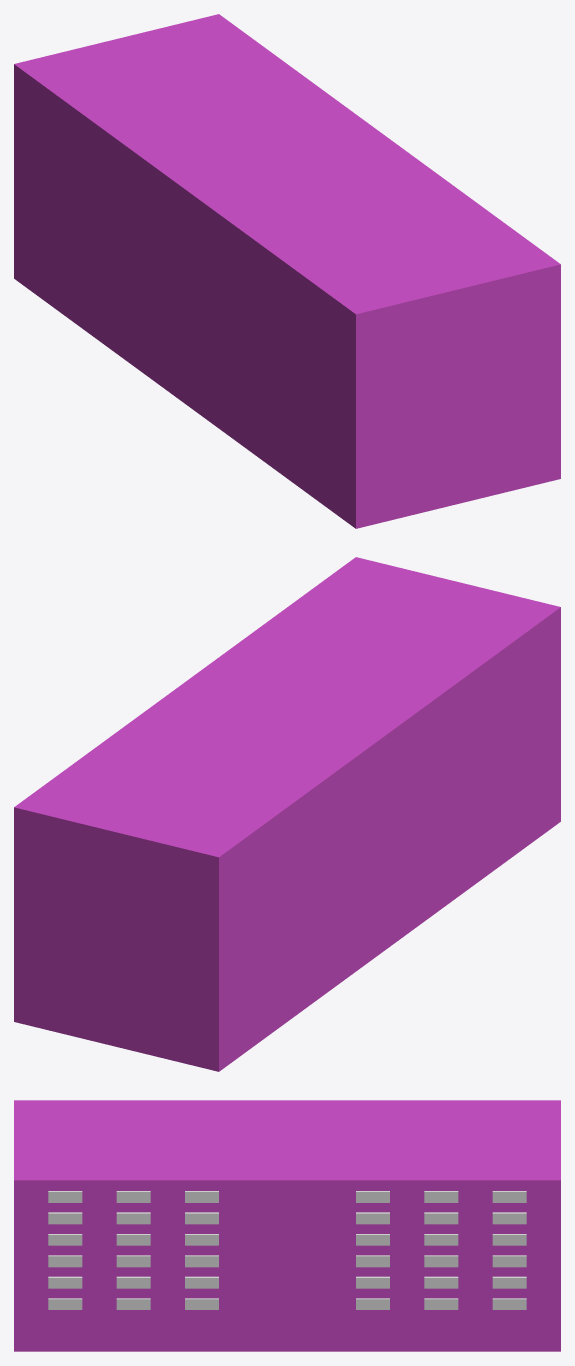
The model's file is condominio.fbx.
3 renders of one model, top to bottom at view 1: azimuth 30°, elevation 25°; view 2: azimuth 150°, elevation 25°; view 3: azimuth 270°, elevation 25°, orthographic. The views are drawn at different scales.
Visible parts, largest first — view 1: Cube; view 2: Cube; view 3: Cube.
Boxes of the visible parts, x1,y1,x2,y2 form: Cube: (14,14,560,528); Cube: (14,557,560,1071); Cube: (14,1100,560,1351).
Bounding box in the file's own units: 483 × 476 × 1376.
